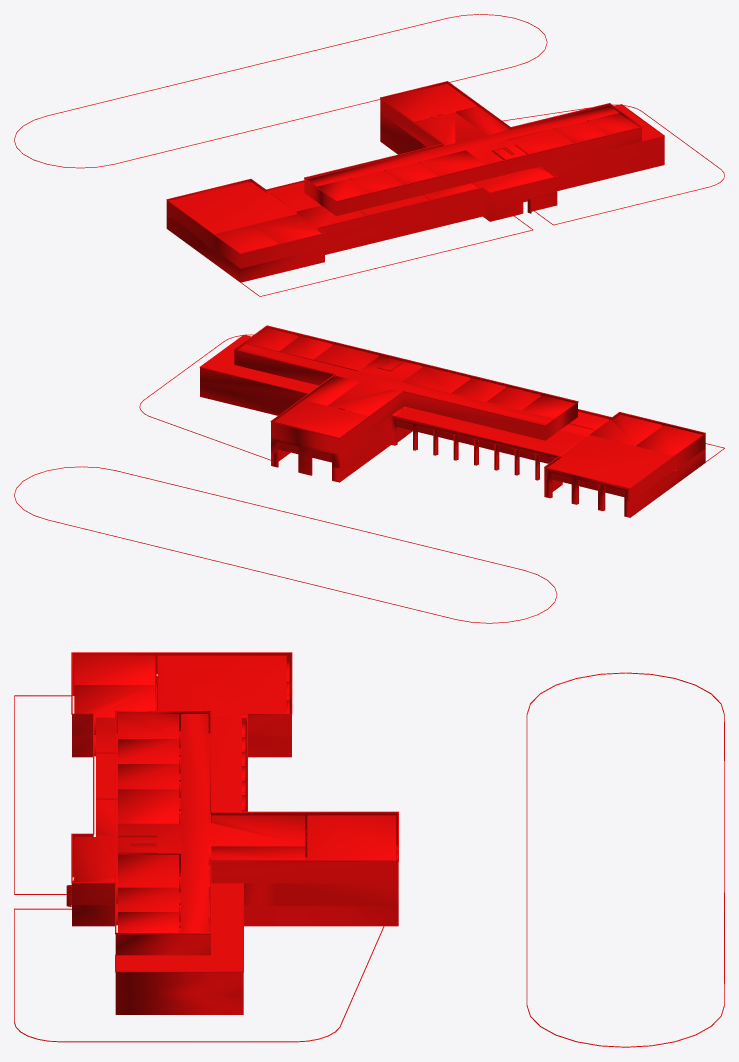
The model's file is navmesh_feuerwache.fbx.
3 views of the same model, one above another, from view 1: azimuth 30°, elevation 25°; view 2: azimuth 150°, elevation 25°; view 3: azimuth 270°, elevation 25° (orthographic). The views are drawn at different scales.
Parts seen in each view (by area): view 1: waende; view 2: waende, boden; view 3: waende, boden.
Boxes of the visible parts, x1,y1,x2,y2 form: waende: (14, 14, 724, 296); waende: (14, 325, 724, 623); boden: (201, 335, 318, 393); waende: (14, 652, 724, 1047); boden: (116, 871, 242, 970).
Bounding box in the file's own units: 12539 × 1026 × 10057.
